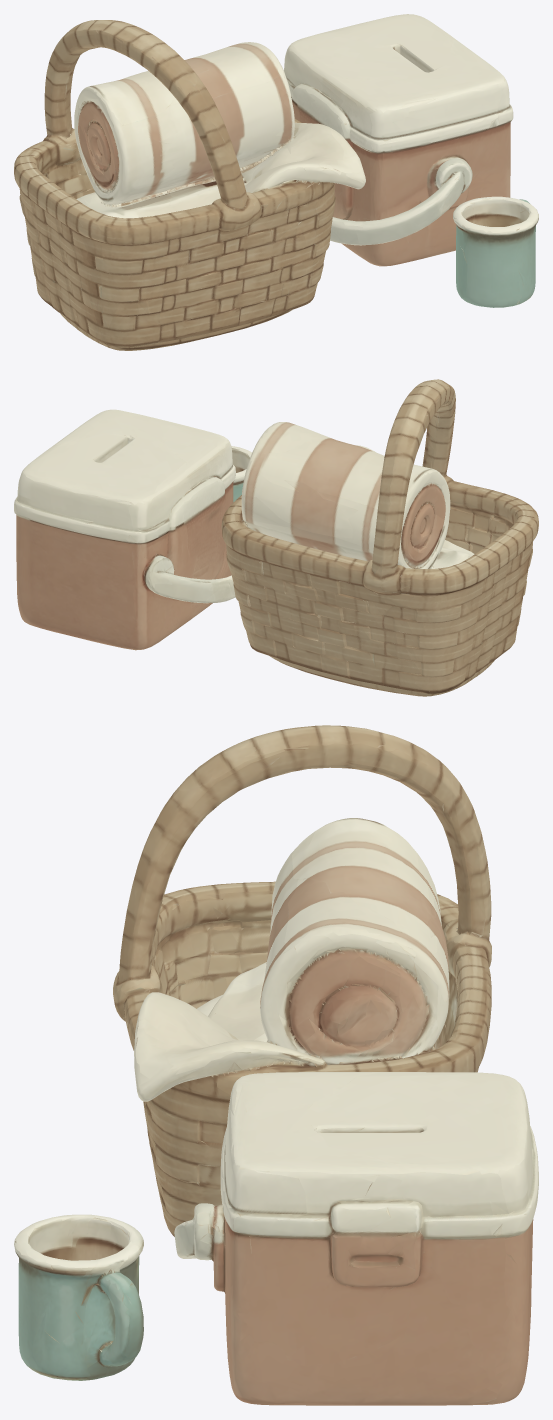
File: camping-supplies-cluster-smooth-cartoon-v1.glb
The picture shows the model from 3 angles, top to bottom: view 1: azimuth 30°, elevation 25°; view 2: azimuth 150°, elevation 25°; view 3: azimuth 270°, elevation 25°; orthographic projection. The views are drawn at different scales.
Bounding box in the file's own units: 1.9 × 1.16 × 1.26.
Materials: 1 (1 with a texture image).
